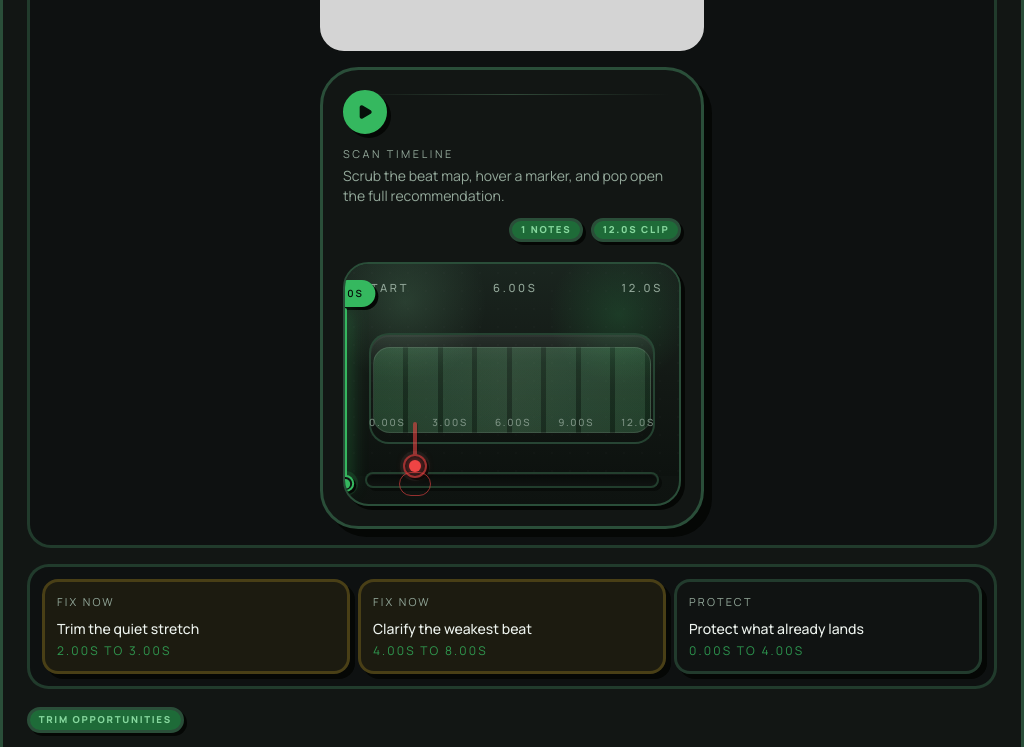
Test case: AnalysisView › removes decorative accent shapes from the analysis panels
(page scrolled)
Expected: the element with test id "recommendation-timeline" is shown, [320,66,704,529]
Click the button named "deadspace cut recommendation at 2.00s" at (415,384), box [391,264,439,504]
(page scrolled)
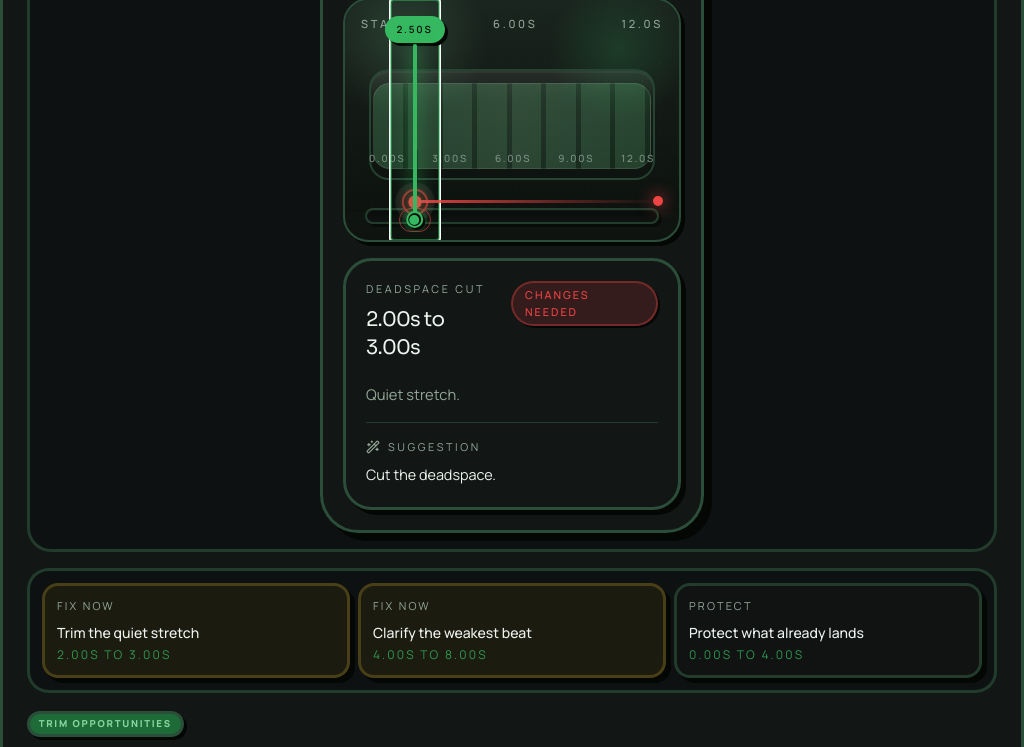
Result: the element with test id "timeline-note-flyout" is shown at [343,258,681,510]
